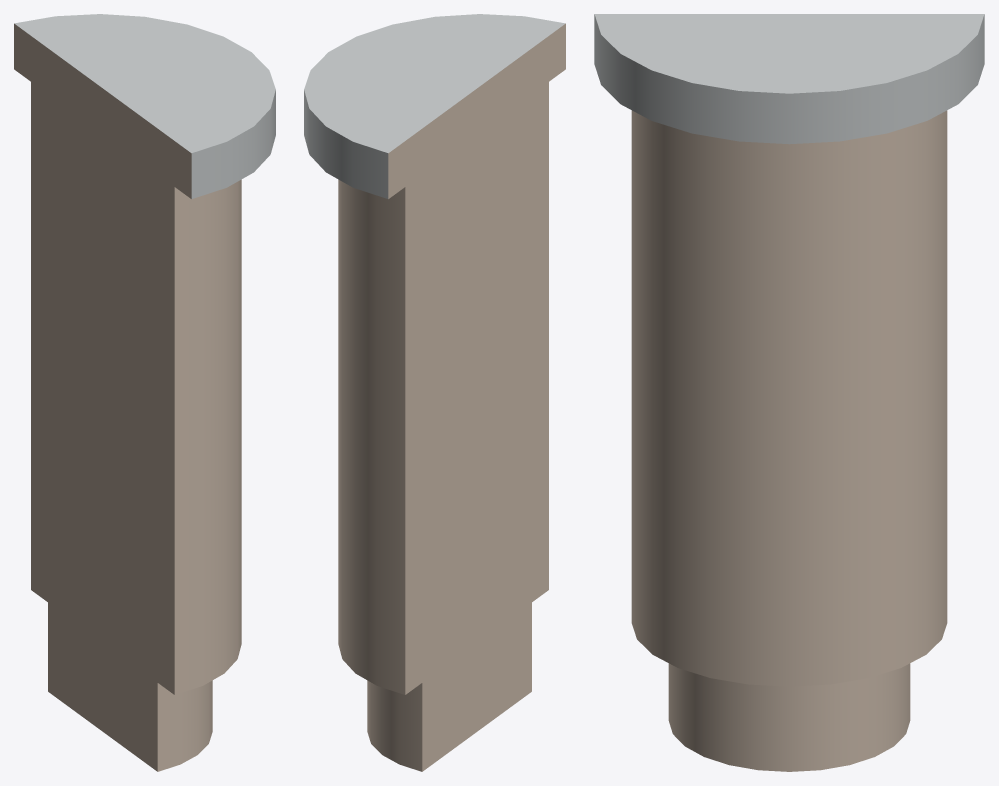
The model's file is furn_kitchenBarEnd.glb.
3 views of the same model, side by side, from view 1: azimuth 30°, elevation 25°; view 2: azimuth 150°, elevation 25°; view 3: azimuth 270°, elevation 25° (orthographic). The views are drawn at different scales.
Size of the model in its own units: 0.2031 by 0.84 by 0.42.
